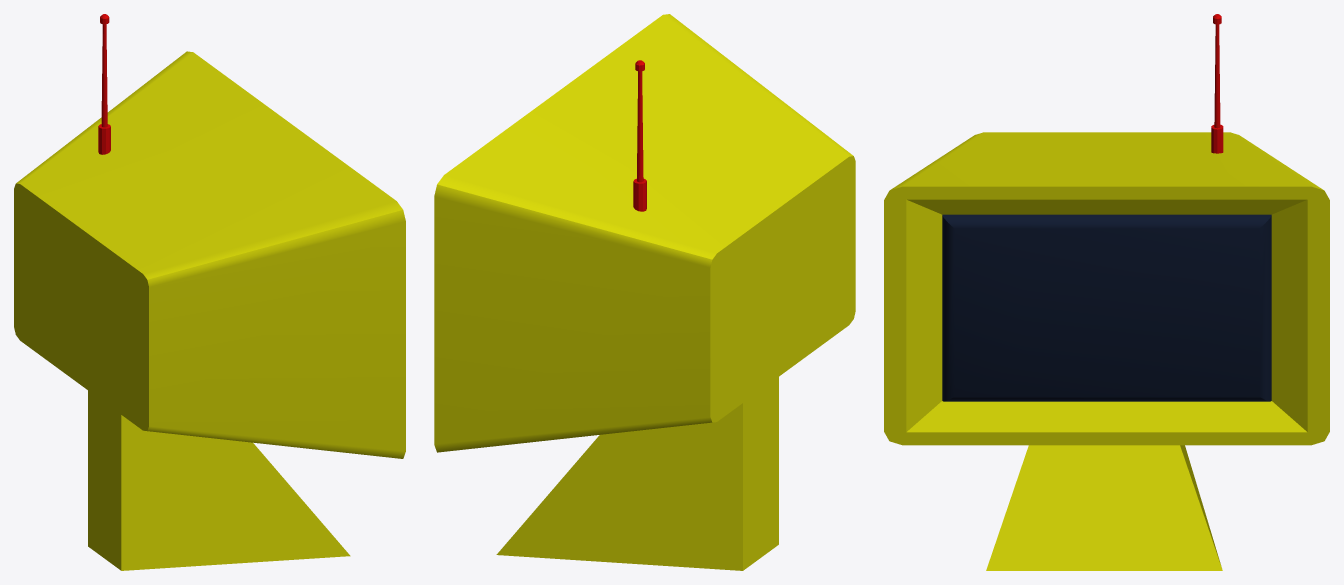
Rendered from SM_Television.fbx.
3 views of the same model, side by side, from view 1: azimuth 30°, elevation 25°; view 2: azimuth 150°, elevation 25°; view 3: azimuth 270°, elevation 25° (orthographic). The views are drawn at different scales.
Visible parts, largest first — view 1: pCylinder2; view 2: pCylinder2; view 3: pCylinder2.
Boxes of the visible parts, x1,y1,x2,y2 form: pCylinder2: (14, 14, 405, 570); pCylinder2: (434, 14, 855, 570); pCylinder2: (884, 14, 1329, 570).
Bounding box in the file's own units: 1.01 × 2.21 × 1.82.
